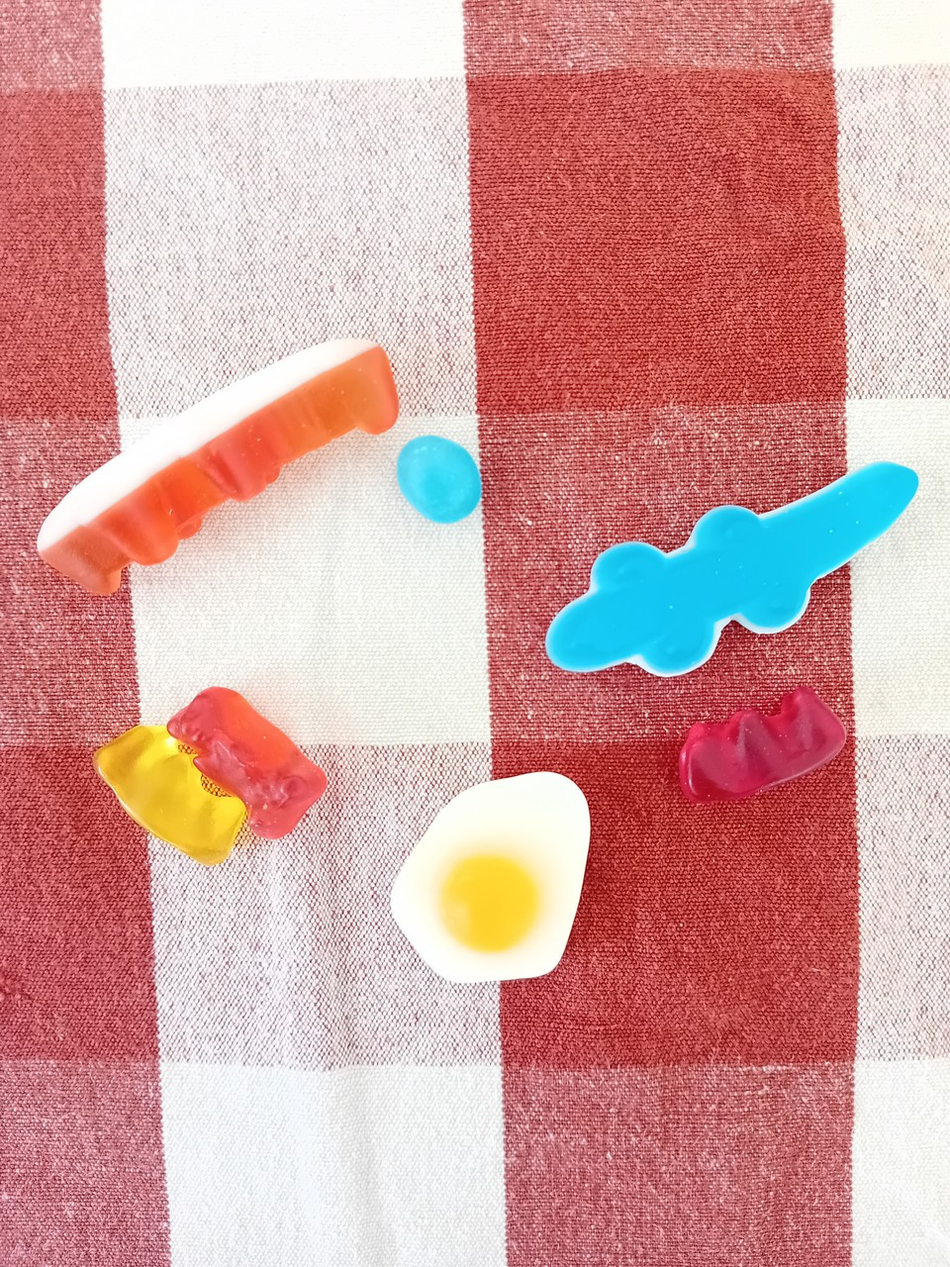crocodile_bleu: (534, 452, 927, 687)
crocodile_orange: (31, 333, 405, 610)
dragibus_bleu: (385, 423, 495, 529)
oeuf_oeuf: (381, 763, 599, 990)
ourson_jaune: (85, 720, 248, 875)
ourson_orangeFonce: (162, 682, 336, 844)
ourson_rouge: (659, 684, 855, 813)
